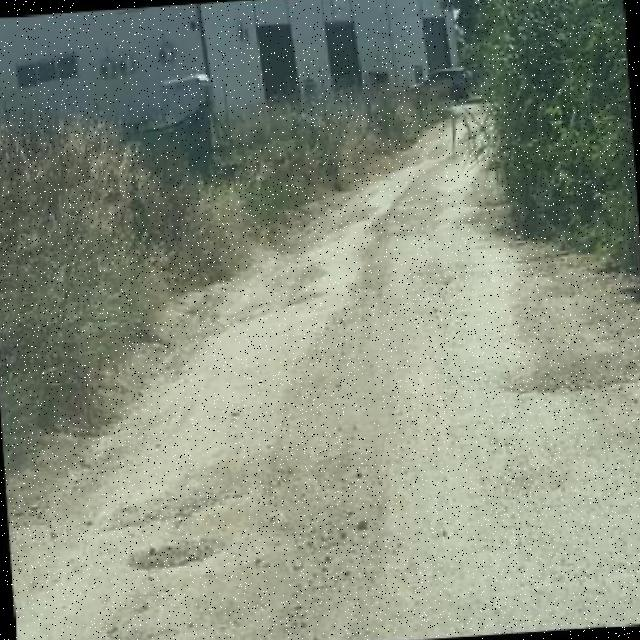pothole: (128, 538, 226, 568)
